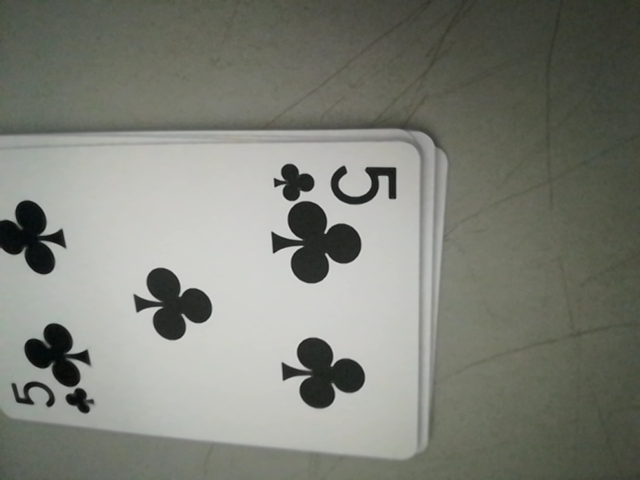mh 5: (272, 155, 404, 208), (7, 378, 98, 420)
